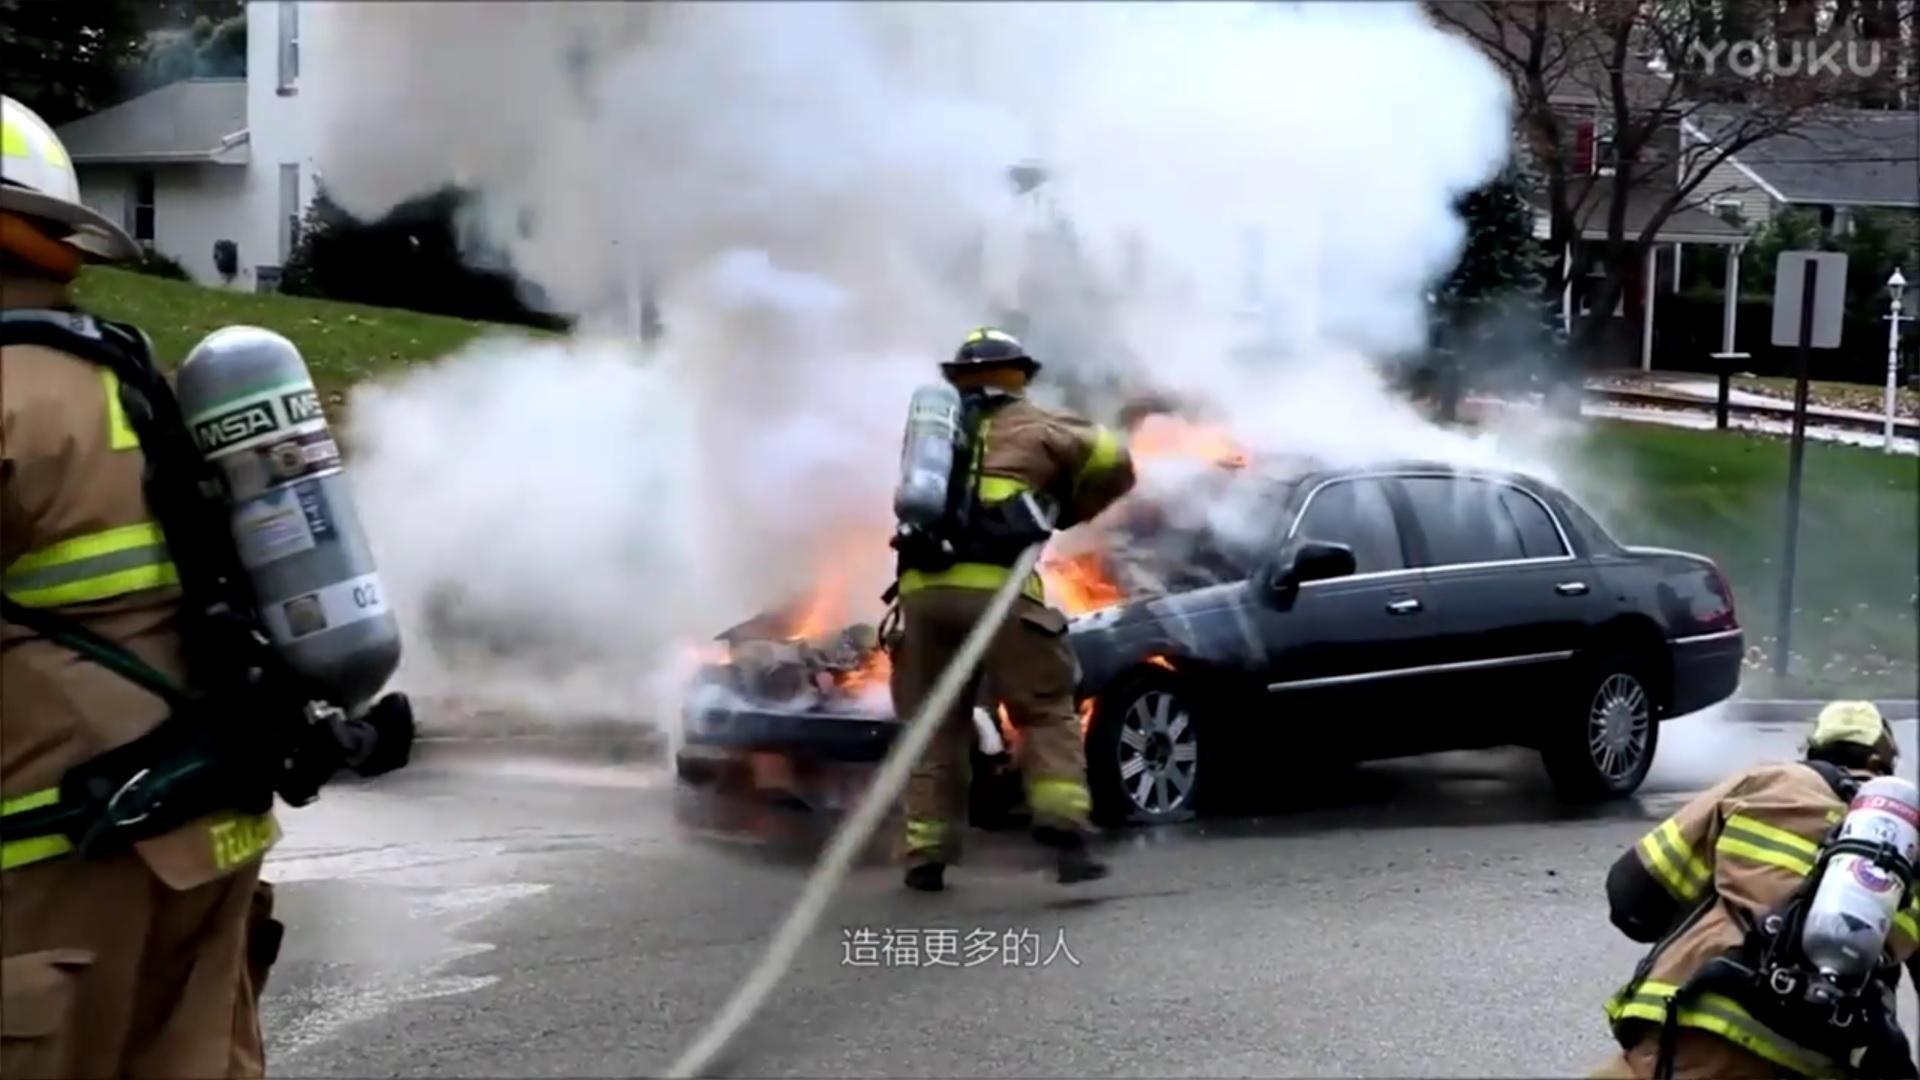fire: (774, 535, 893, 702), (1046, 547, 1124, 615)
